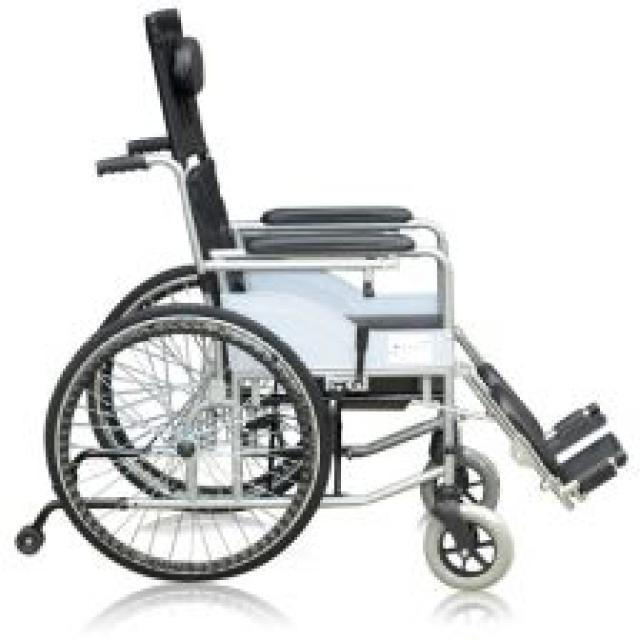wheelchair: (11, 2, 634, 588)
